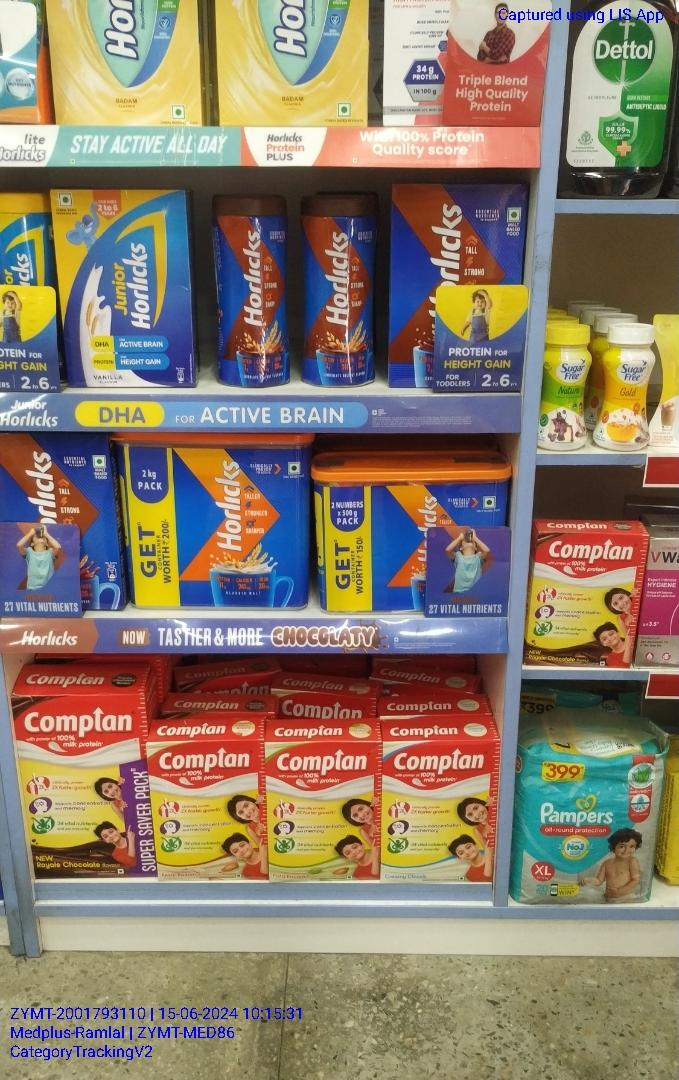COMPLAN_CHOCOLATE_1_KG_PACK: (24, 693, 149, 878)
COMPLAN_CREAMY_CLASSIC_500_G_PACK: (385, 740, 493, 886)
COMPLAN_KESAR_BADAM_500_GMS_PACK: (157, 740, 265, 881)
COMPLAN_PISTA_BADAM_500_GMS_PACK: (265, 744, 378, 881)
HORLICK_CHOCOLATE_500_G_JAR: (214, 193, 292, 391), (301, 193, 376, 388)
HORLICK_MALT_1_KG_CONTAINER: (124, 435, 308, 610)
